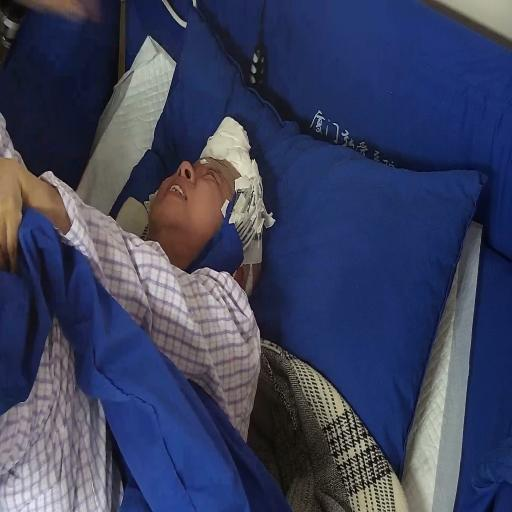Seizure: (156, 118, 238, 264)
